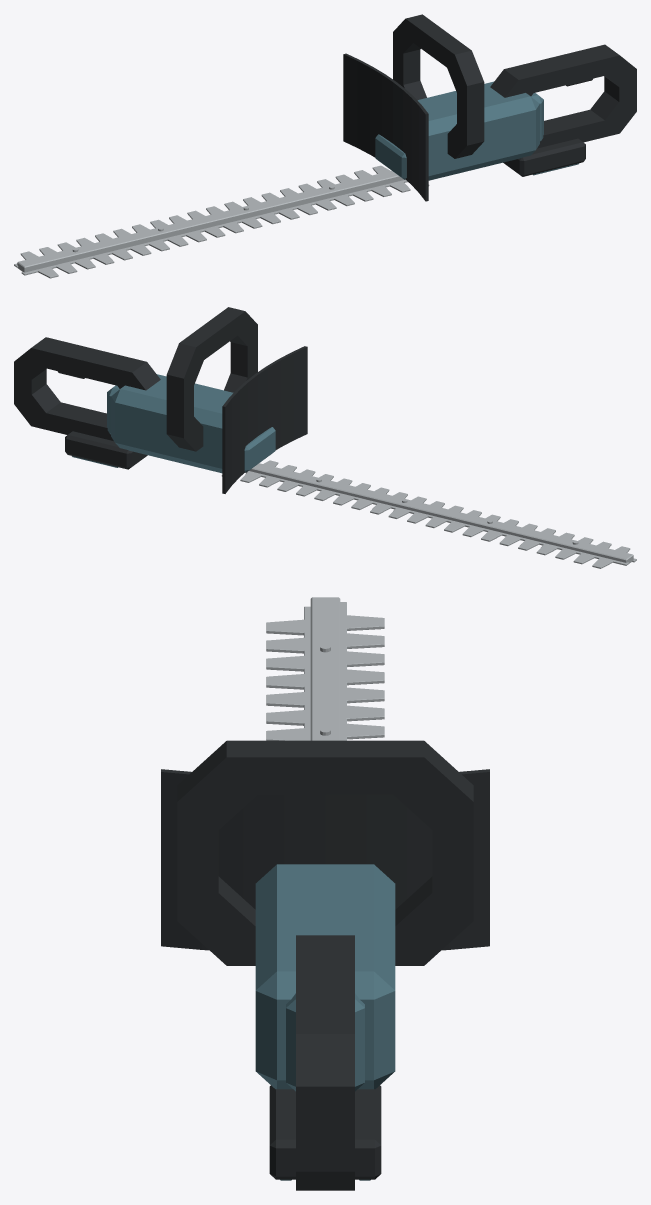
The model's file is full.glb.
3 renders of one model, top to bottom at view 1: azimuth 30°, elevation 25°; view 2: azimuth 150°, elevation 25°; view 3: azimuth 270°, elevation 25°, orthographic. The views are drawn at different scales.
Parts seen in each view (by area): view 1: Rear axial loop trigger grip, Curved front hand protection plate, Compact rear motor body, Transverse wrap front handle, Long central blade spine, Static toothed blade strip -1, Static toothed blade strip 1, Generic empty rear coupling, Handguard mounting root; view 2: Rear axial loop trigger grip, Curved front hand protection plate, Compact rear motor body, Transverse wrap front handle, Long central blade spine, Static toothed blade strip 1, Generic empty rear coupling, Static toothed blade strip -1, Handguard mounting root; view 3: Transverse wrap front handle, Curved front hand protection plate, Compact rear motor body, Rear axial loop trigger grip, Generic empty rear coupling, Static toothed blade strip 1, Static toothed blade strip -1, Long central blade spine, Rear grip mounting neck.
Boxes of the visible parts, x1,y1,x2,y2 form: Rear axial loop trigger grip: (490, 44, 636, 148); Curved front hand protection plate: (343, 53, 428, 201); Compact rear motor body: (417, 81, 539, 180); Transverse wrap front handle: (393, 14, 484, 158); Long central blade spine: (17, 170, 404, 272); Static toothed blade strip -1: (21, 179, 429, 278); Static toothed blade strip 1: (14, 165, 390, 267); Generic empty rear coupling: (503, 138, 585, 176); Handguard mounting root: (375, 134, 406, 179); Rear axial loop trigger grip: (14, 337, 160, 440); Curved front hand protection plate: (222, 346, 307, 493); Compact rear motor body: (111, 374, 233, 473); Transverse wrap front handle: (166, 307, 257, 451); Long central blade spine: (249, 463, 633, 563); Static toothed blade strip 1: (221, 471, 629, 568); Generic empty rear coupling: (65, 431, 147, 469); Static toothed blade strip -1: (263, 460, 636, 562); Handguard mounting root: (244, 427, 275, 472); Transverse wrap front handle: (177, 740, 473, 965); Curved front hand protection plate: (161, 769, 489, 950); Compact rear motor body: (255, 864, 395, 1089); Rear axial loop trigger grip: (296, 935, 354, 1190); Generic empty rear coupling: (269, 1085, 381, 1179); Static toothed blade strip 1: (340, 602, 384, 740); Static toothed blade strip -1: (266, 606, 310, 740); Long central blade spine: (310, 597, 340, 740); Rear grip mounting neck: (286, 993, 364, 1091).
Bounding box in the file's own units: 0.8568 × 0.2055 × 0.2.
